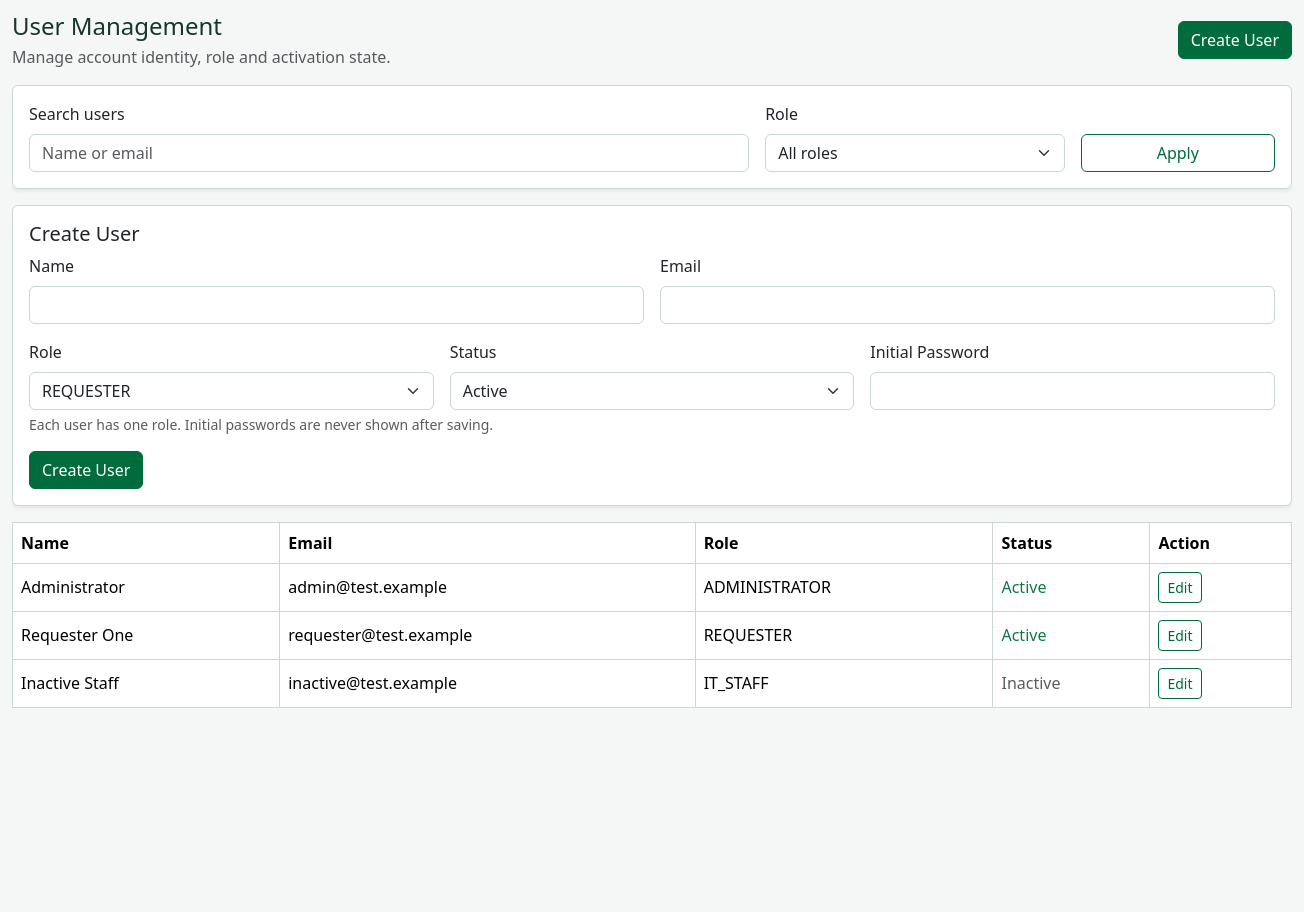
Test case: Administrator User Management › renders API validation fields with accessible error associations
This screenshot has width=1304, height=912.
Expected: the text "Requester One" is shown, [12,611,280,659]
Type "Validation User" into the field labelled "Name" at [336, 305], box [29,286,644,324]
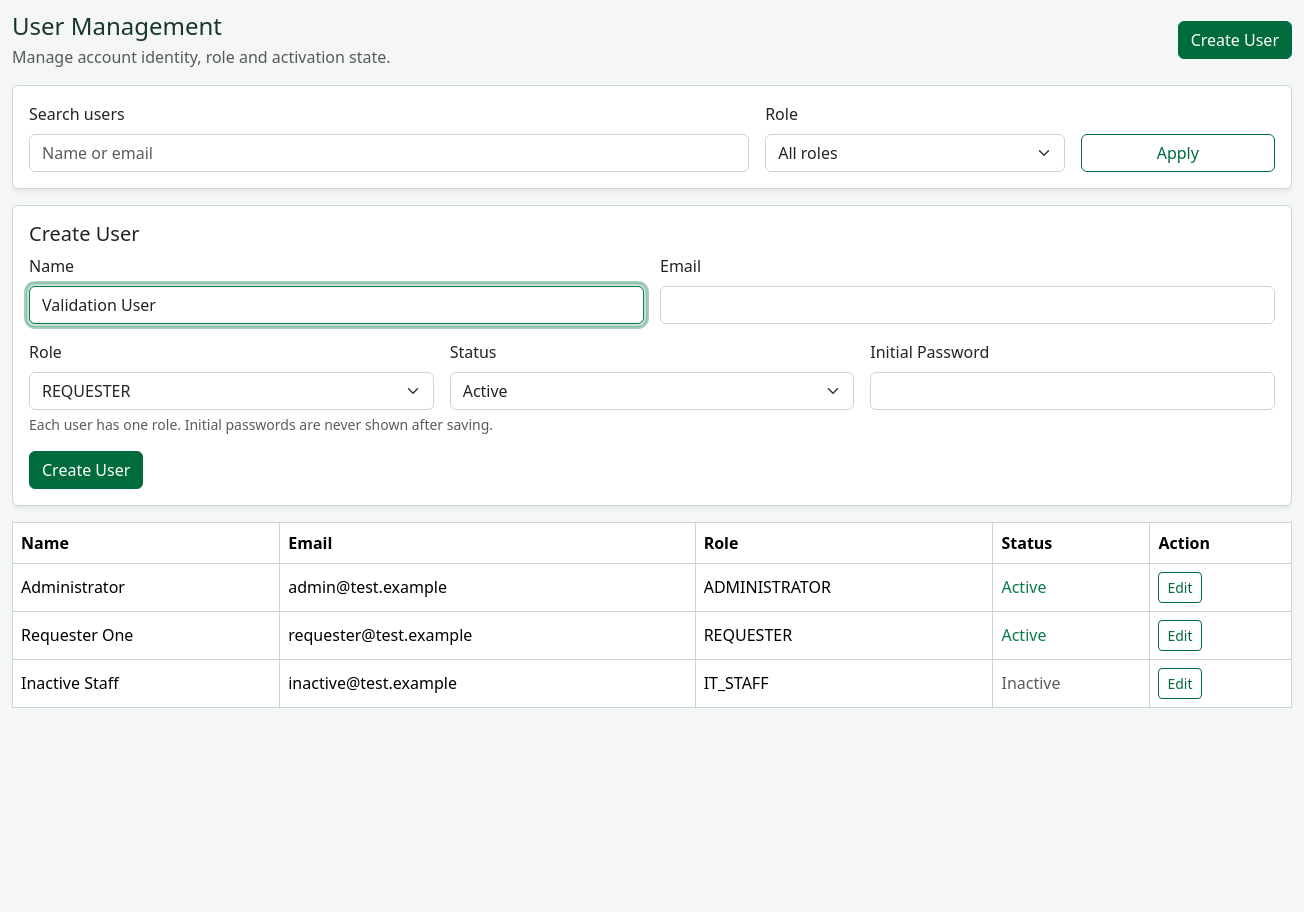
Type "validation@test.example" into the field labelled "Email" at [968, 305], box [660,286,1275,324]
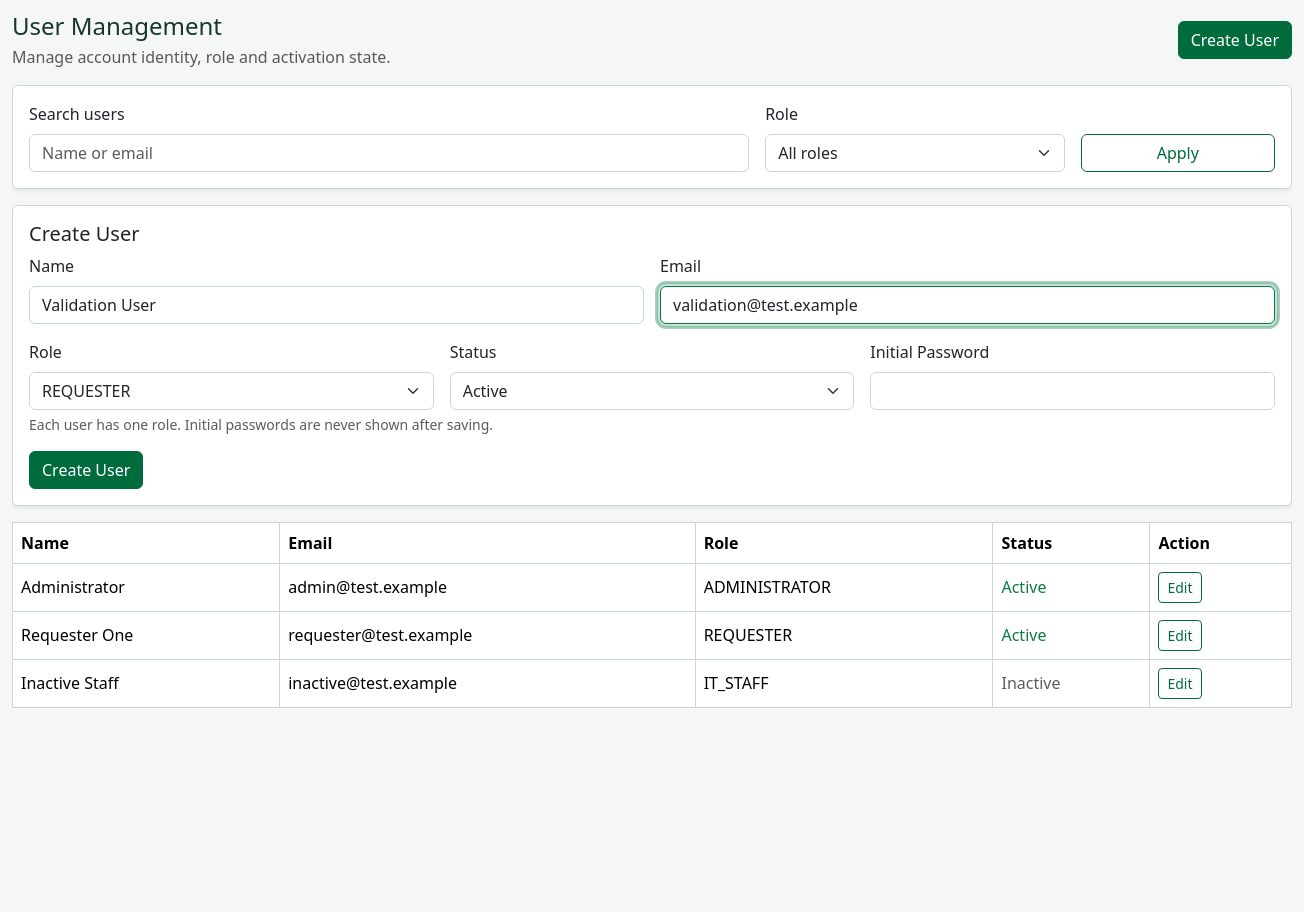
Type "Valid-Password1!" into the password field labelled "Initial Password" at [1073, 391], box [870,372,1275,410]
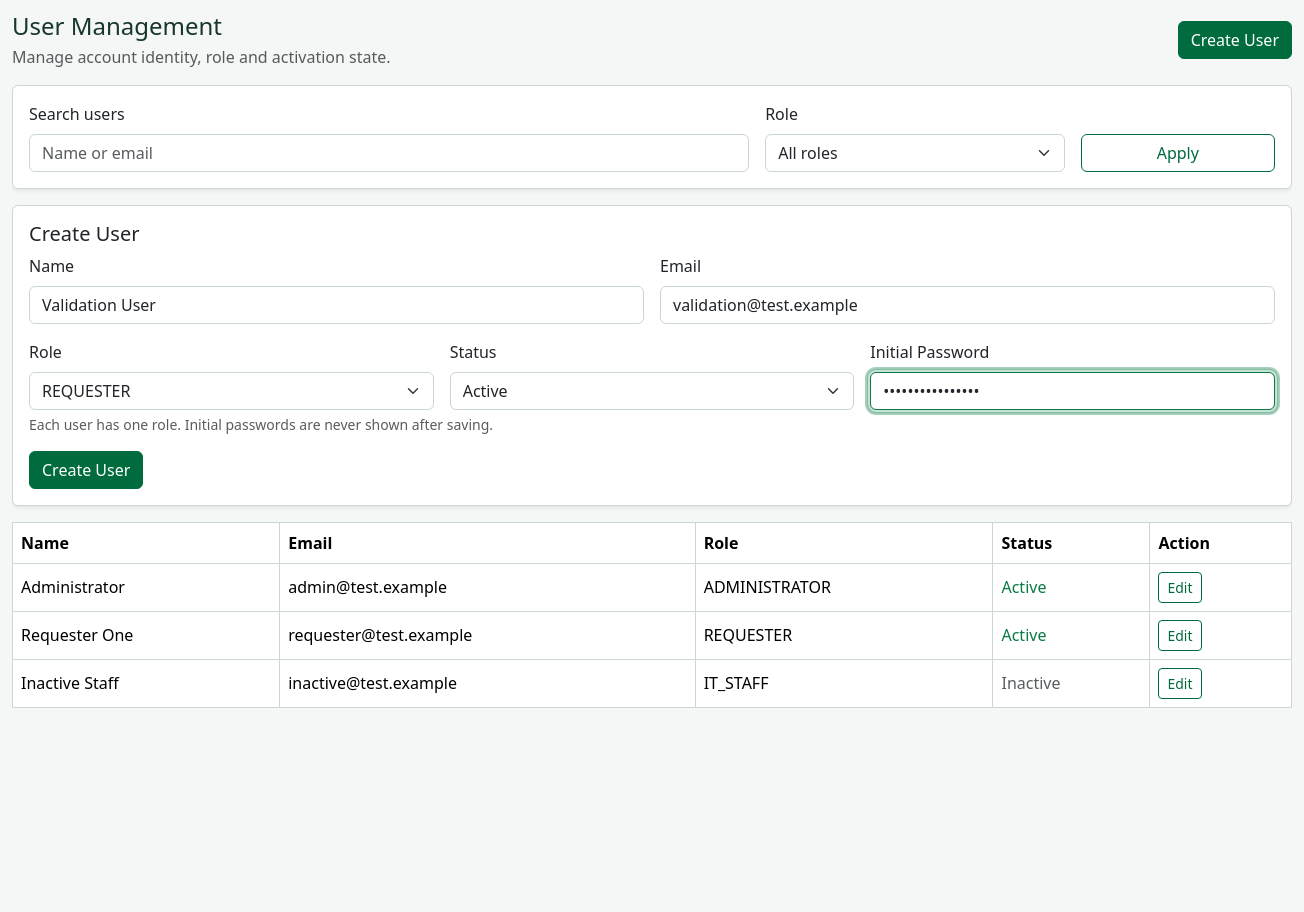
Click the 2nd button "Create User" at [86, 470], box [29,451,143,489]
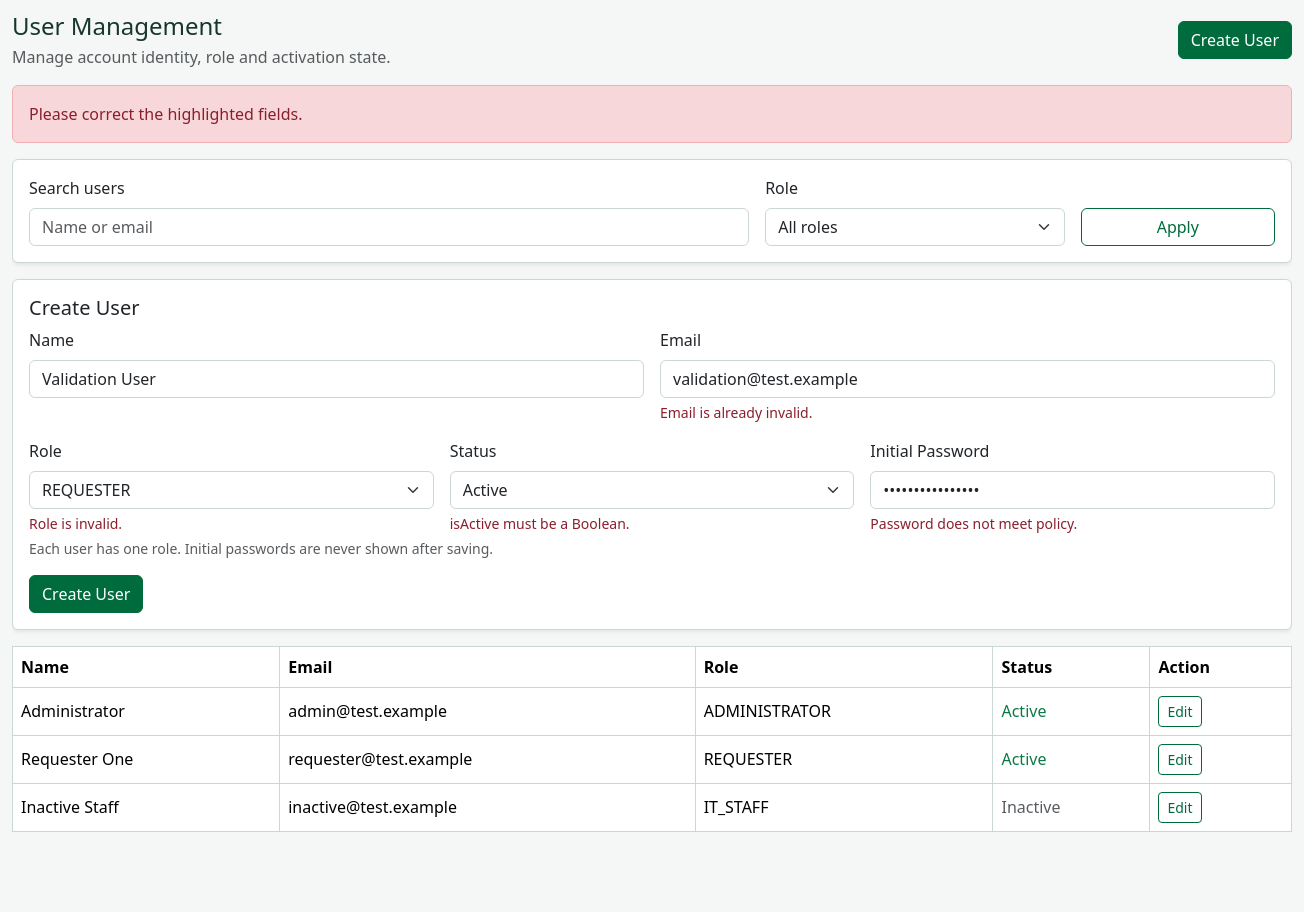
Expected: the text "Email is already invalid." is shown, [660,403,812,422]
Expected: the text "Role is invalid." is shown, [29,514,122,533]
Expected: the text "isActive must be a Boolean." is shown, [450,514,630,533]
